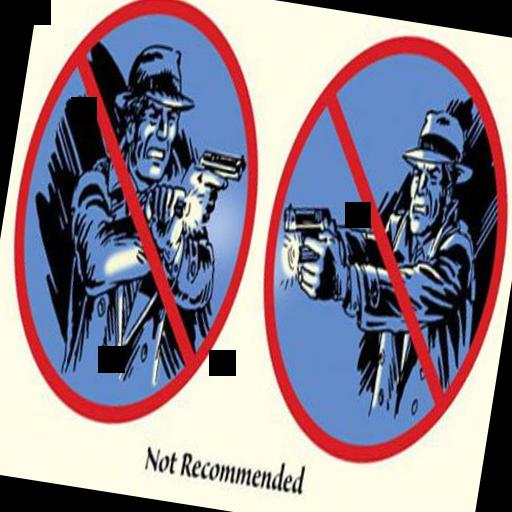Handgun: (174, 136, 247, 258), (265, 197, 355, 295)
